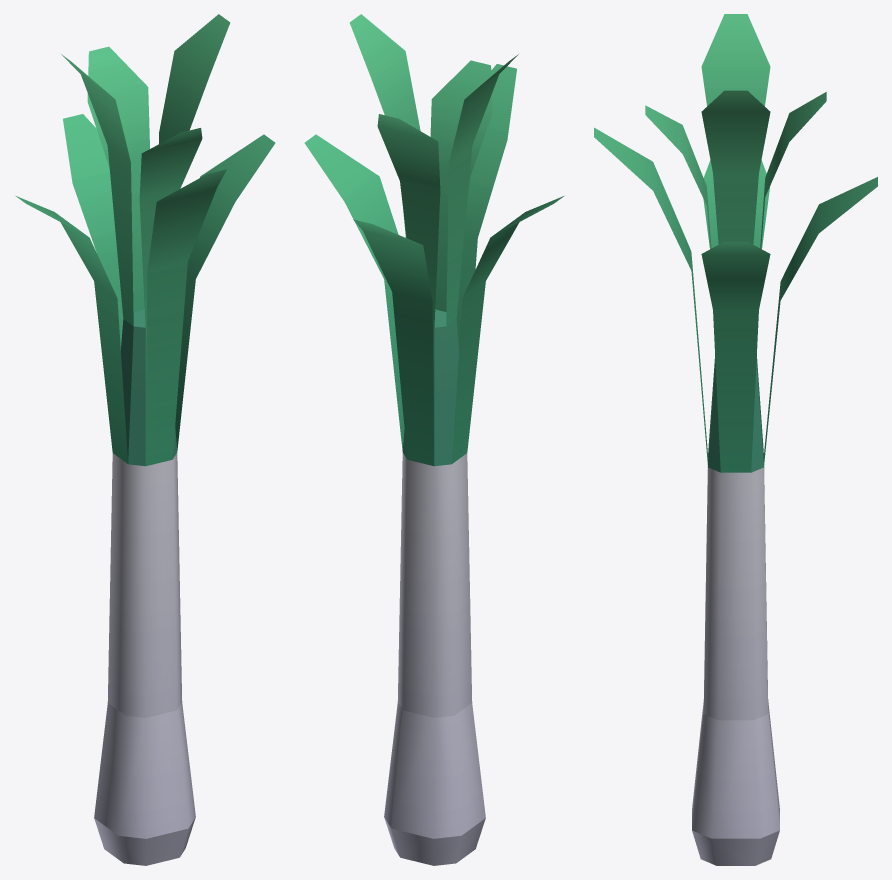
The model's file is leek-harvest.glb.
The picture shows the model from 3 angles, left to right: view 1: azimuth 30°, elevation 25°; view 2: azimuth 150°, elevation 25°; view 3: azimuth 270°, elevation 25°; orthographic projection.
Parts seen in each view (by area): view 1: leek; view 2: leek; view 3: leek.
Part boxes in pixels (x1,y1,x2,y2): leek: (16, 14, 275, 865); leek: (304, 14, 563, 865); leek: (594, 14, 877, 865).
Size of the model in its own units: 0.3221 by 1 by 0.3221.
Materials: 1 (1 with a texture image).
